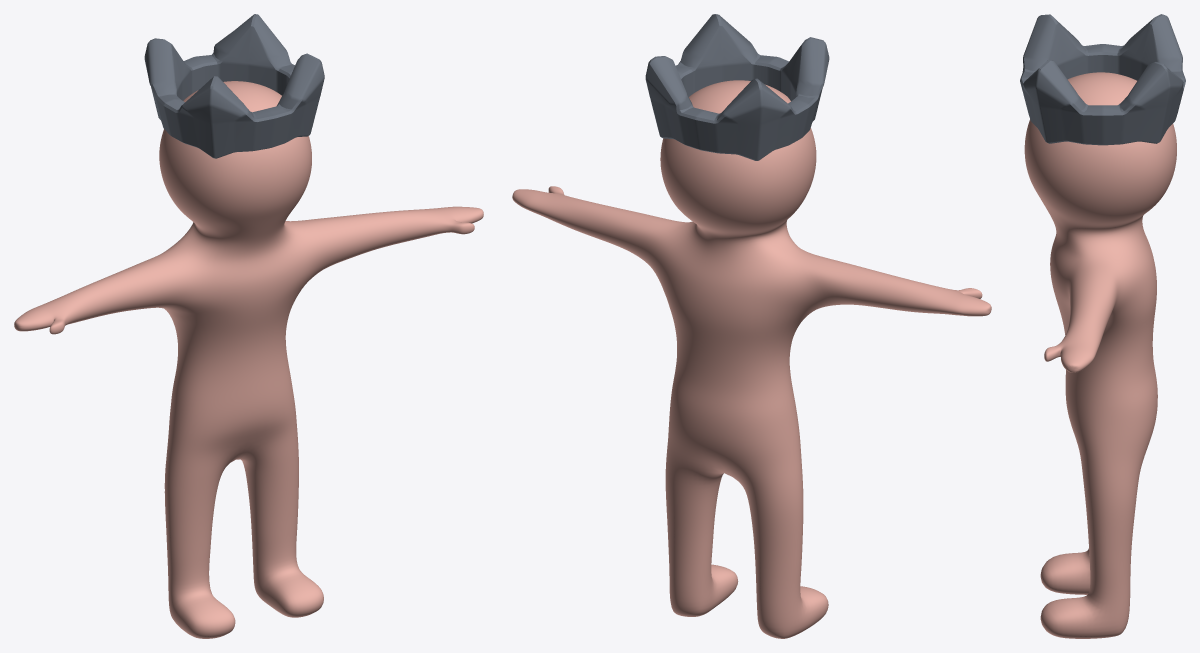
The model's file is Boss.fbx.
The picture shows the model from 3 angles, left to right: view 1: azimuth 30°, elevation 25°; view 2: azimuth 150°, elevation 25°; view 3: azimuth 270°, elevation 25°; orthographic projection. The views are drawn at different scales.
Visible parts, largest first — view 1: Boss, Boss_Crown; view 2: Boss, Boss_Crown; view 3: Boss, Boss_Crown.
Part boxes in pixels (<box>): Boss: <box>14,81,483,638</box>; Boss_Crown: <box>144,14,324,158</box>; Boss: <box>512,80,991,638</box>; Boss_Crown: <box>645,14,829,160</box>; Boss: <box>1024,72,1176,638</box>; Boss_Crown: <box>1020,14,1185,145</box>.
Bounding box in the file's own units: 40.48 × 47.01 × 12.28.
